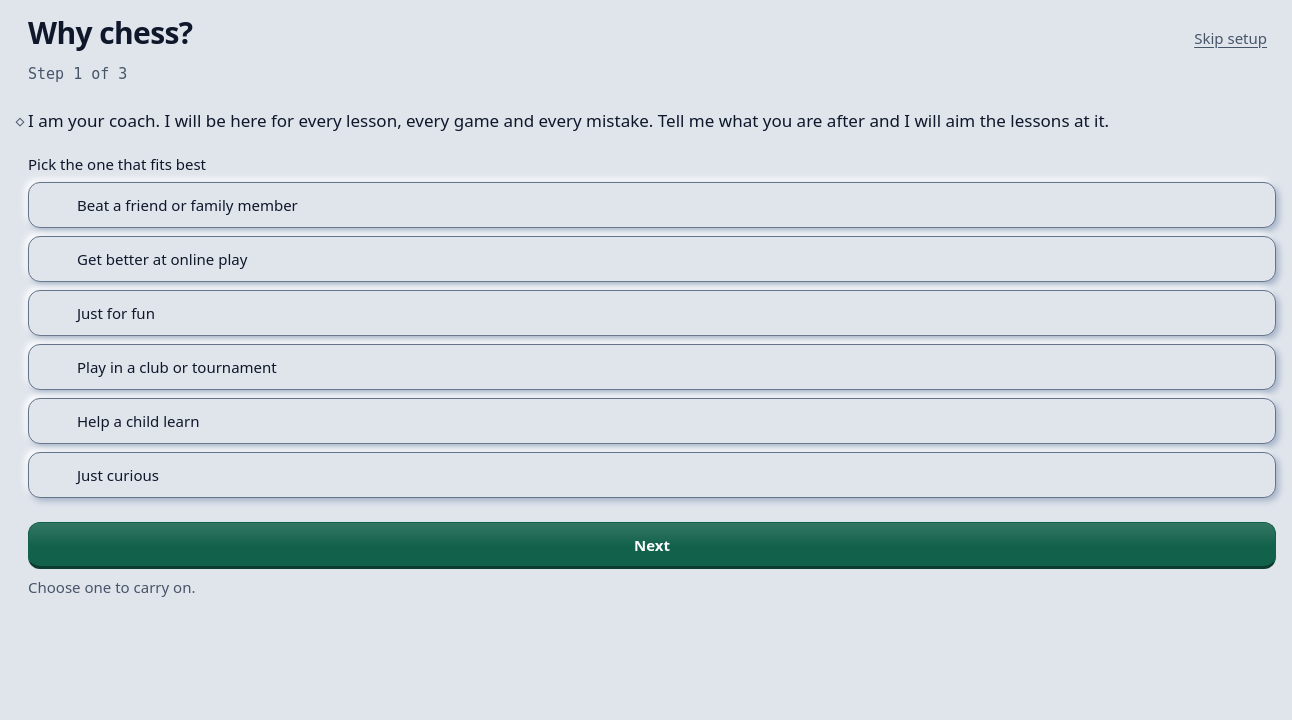
Test: the screen cannot be advanced without an answer, and says so
Check: the button "Next" is disabled, box [28,522,1276,569]
Check: the text "Choose one to carry on." is shown, box [28,577,196,597]
What coordinates should you click on to do the following:
click the button "Just for fun"
I would click on:
 (116, 313)
Its box is [28,290,1276,336].
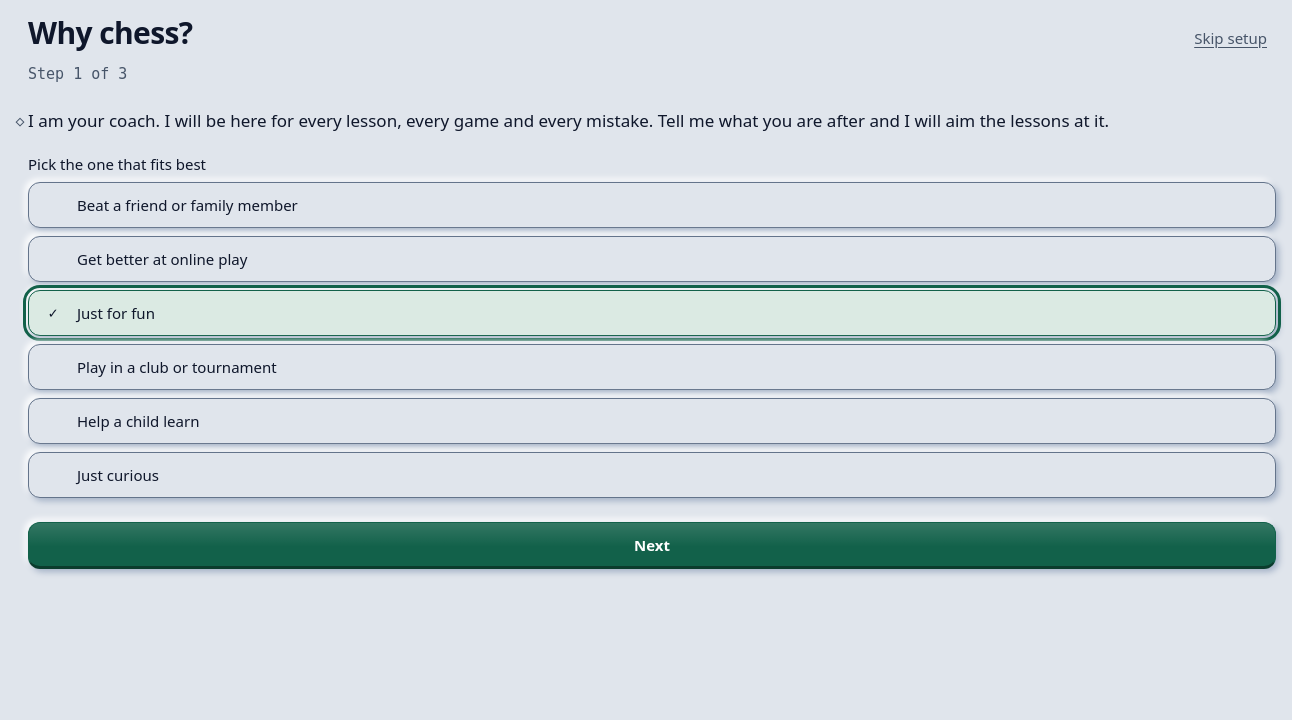
Check: the text "Choose one to carry on." is gone
What coordinates should you click on to do the following:
click the button "Next"
I would click on:
 (652, 546)
Its box is [28,522,1276,569].
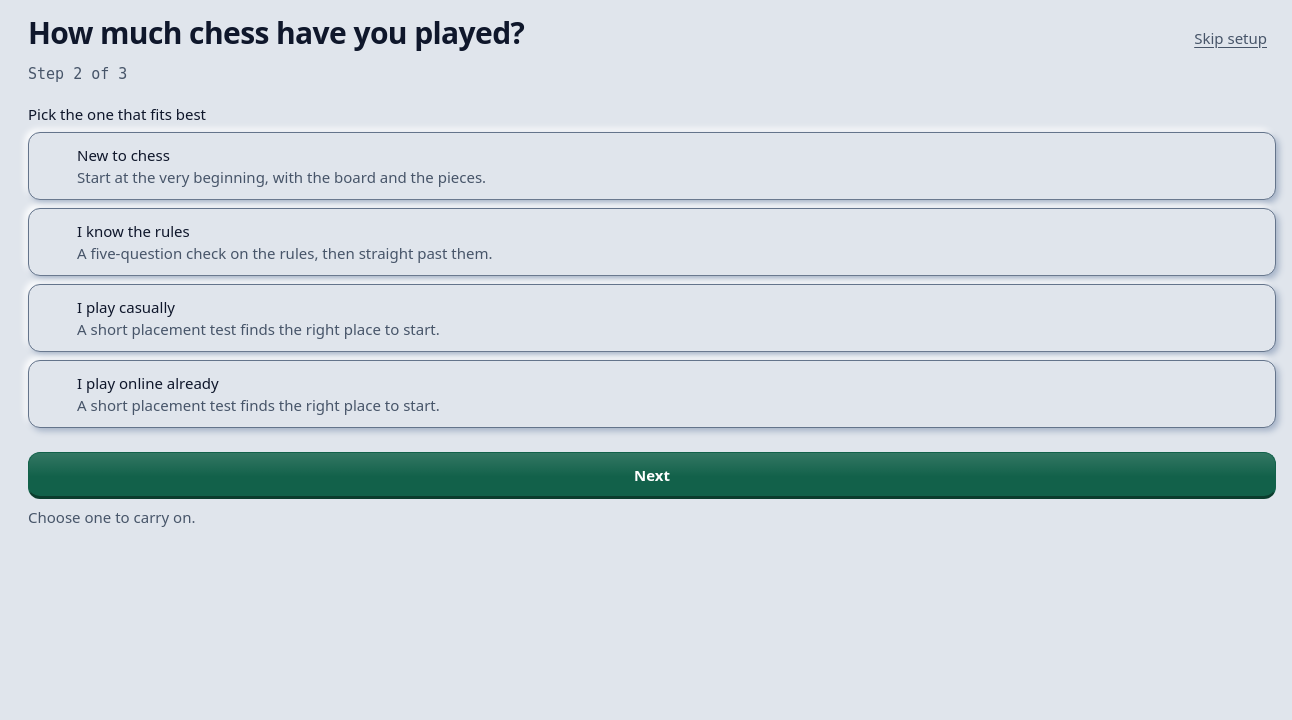
Check: the heading "How much chess have you played?" is shown, box [28,12,524,53]
